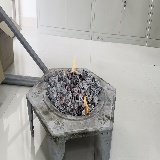fire: (84, 95, 89, 114), (72, 57, 76, 72), (63, 71, 65, 76)
